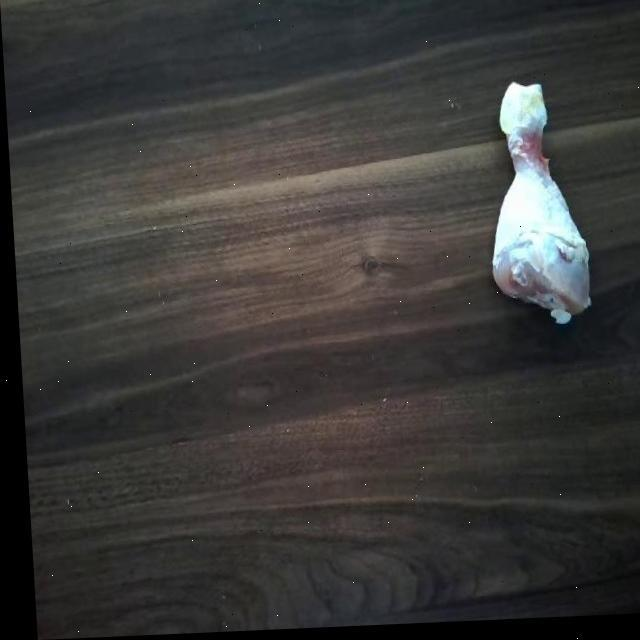leg: (481, 81, 592, 332)
